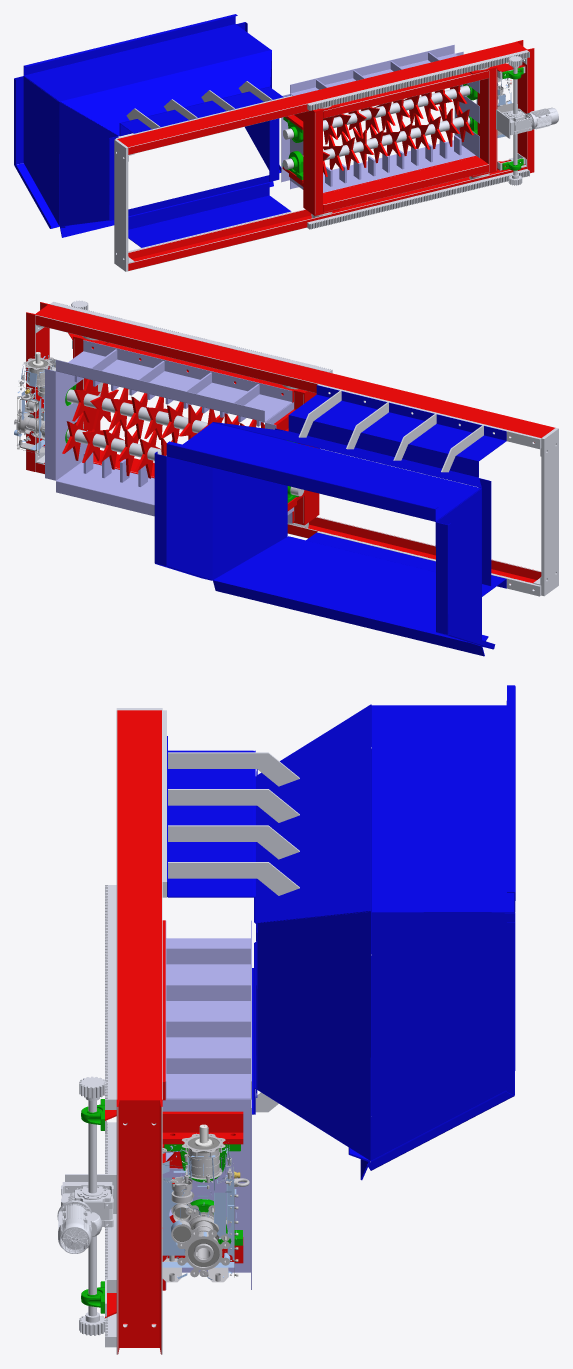
Rendered from bagopener.glb.
3 views of the same model, one above another, from view 1: azimuth 30°, elevation 25°; view 2: azimuth 150°, elevation 25°; view 3: azimuth 270°, elevation 25° (orthographic). The views are drawn at different scales.
Parts seen in each view (by area): view 1: Node8, Node11, Node2, Node9, Node3, Node1, Node4, Node17, Node6; view 2: Node8, Node11, Node9, Node3, Node2, Node4, Node1, Node5, Node17, Node14; view 3: Node8, Node11, Node9, Node2, Node3, Node5, Node1, Node14, Node4, Node6, Node10.
Part boxes in pixels (<box>): Node8: <box>14,14,290,247</box>; Node11: <box>117,40,534,270</box>; Node2: <box>114,52,558,271</box>; Node9: <box>281,44,479,192</box>; Node3: <box>115,50,558,270</box>; Node1: <box>116,52,557,262</box>; Node4: <box>115,52,558,229</box>; Node17: <box>325,135,461,186</box>; Node6: <box>282,67,523,179</box>; Node8: <box>154,385,506,656</box>; Node11: <box>26,302,554,589</box>; Node9: <box>45,340,293,523</box>; Node3: <box>26,301,558,596</box>; Node2: <box>35,300,558,596</box>; Node4: <box>35,302,556,595</box>; Node1: <box>35,302,556,586</box>; Node5: <box>14,357,53,453</box>; Node17: <box>74,376,264,486</box>; Node14: <box>14,355,55,452</box>; Node8: <box>167,685,515,1180</box>; Node11: <box>105,710,243,1354</box>; Node9: <box>162,920,251,1289</box>; Node2: <box>57,710,299,1354</box>; Node3: <box>57,708,299,1354</box>; Node5: <box>162,1133,249,1282</box>; Node1: <box>57,710,261,1354</box>; Node14: <box>162,1142,236,1280</box>; Node4: <box>58,752,278,1334</box>; Node6: <box>81,1099,242,1313</box>; Node10: <box>173,1137,236,1277</box>.
Bounding box in the file's own units: 3462 × 1106 × 1592.
